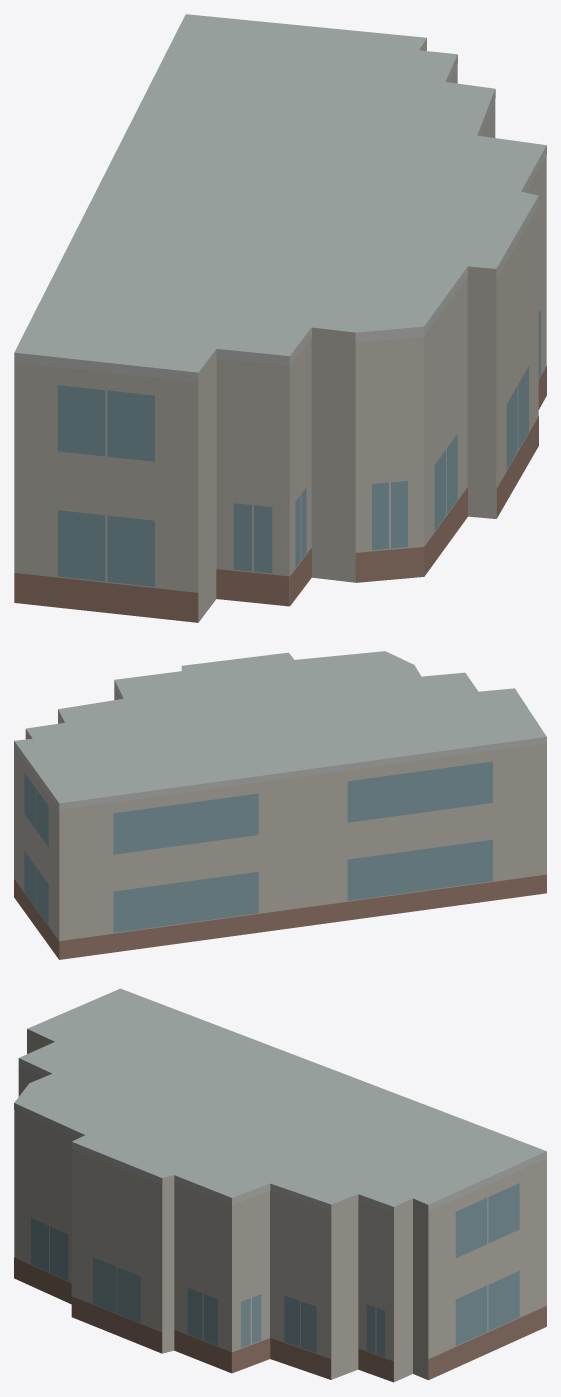
Rendered from survey-upis-32877156.glb.
The picture shows the model from 3 angles, top to bottom: view 1: azimuth 30°, elevation 25°; view 2: azimuth 150°, elevation 25°; view 3: azimuth 270°, elevation 25°; orthographic projection. The views are drawn at different scales.
Visible parts, largest first — view 1: survey-upis-32877156.tmp; view 2: survey-upis-32877156.tmp; view 3: survey-upis-32877156.tmp.
Part boxes in pixels (x1,y1,x2,y2): survey-upis-32877156.tmp: (14, 14, 546, 622); survey-upis-32877156.tmp: (14, 651, 546, 959); survey-upis-32877156.tmp: (14, 988, 546, 1382).
Bounding box in the file's own units: 16.3 × 6.1 × 16.8.
